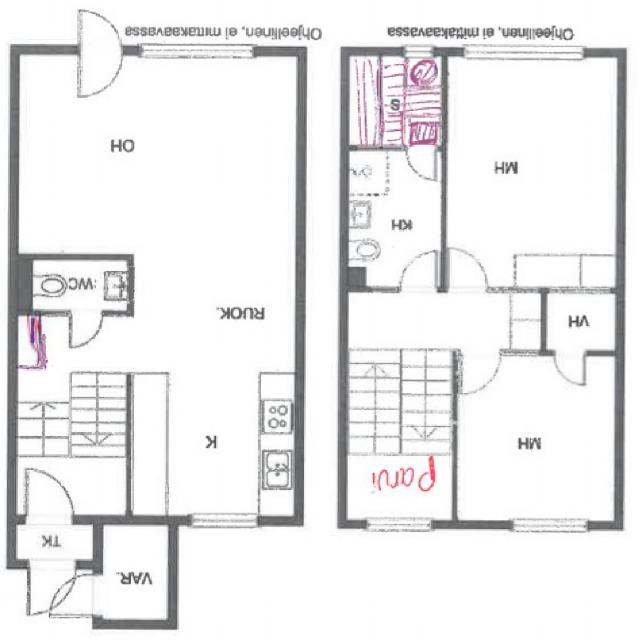door: (29, 560, 75, 613), (26, 471, 72, 524), (49, 574, 102, 616), (78, 46, 120, 95), (78, 5, 120, 54), (461, 350, 500, 394), (449, 250, 487, 293), (400, 252, 436, 293), (70, 310, 102, 346), (554, 350, 584, 384), (406, 146, 435, 180)
